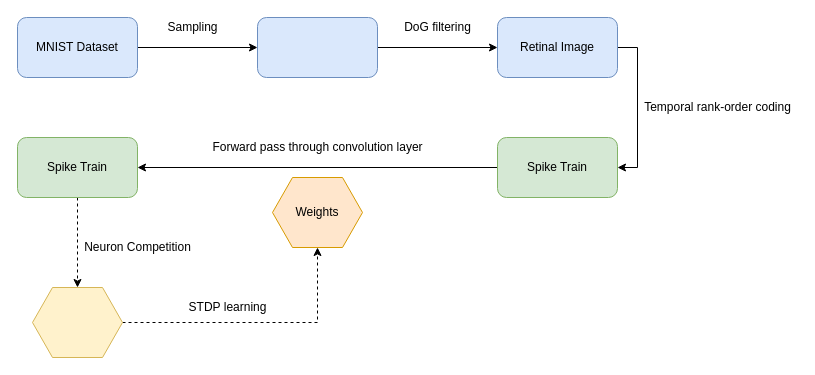
The diagram is 815 pixels wide and 375 high, and some of its shapes have lost their labels. Each missing label, with the centre of its shape:
Grayscale Image: (x=317, y=47)
Winners: (x=77, y=322)
